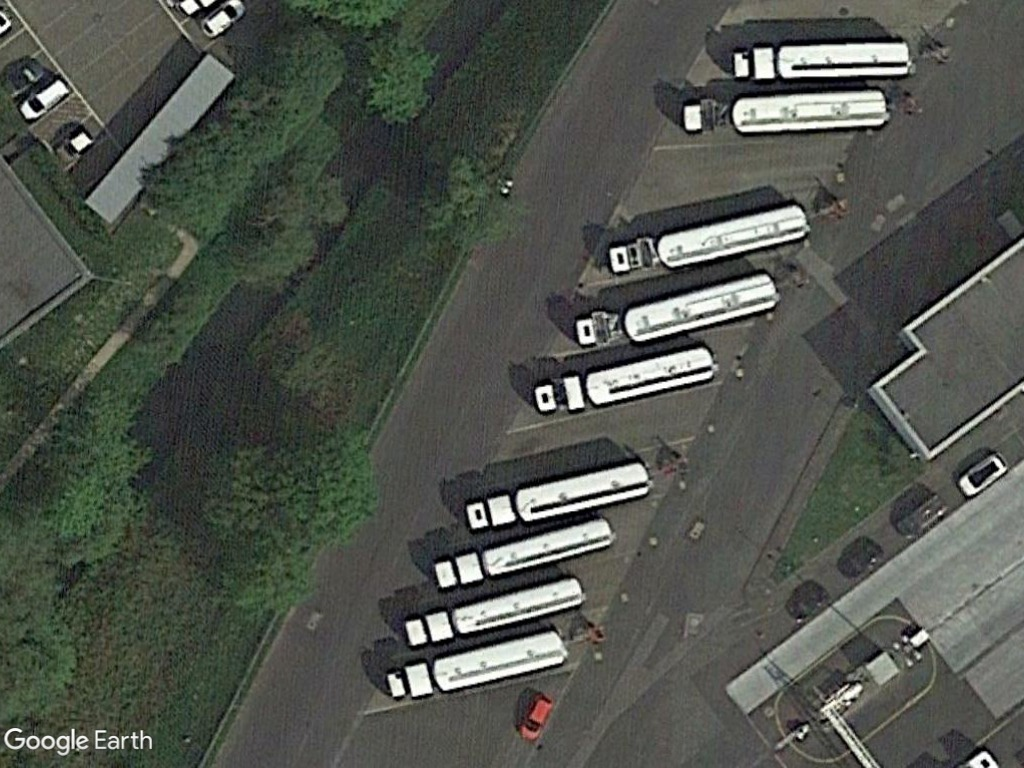car: (513, 694, 556, 745), (202, 0, 248, 40)
longvehicle: (562, 263, 782, 355), (597, 200, 814, 279), (461, 455, 659, 538), (396, 574, 589, 653), (429, 513, 615, 594), (532, 341, 720, 421), (382, 627, 570, 706), (673, 87, 893, 138), (728, 36, 920, 87)
van: (16, 73, 70, 124)
